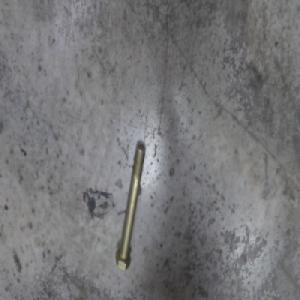Bolt: (115, 146, 148, 270)
